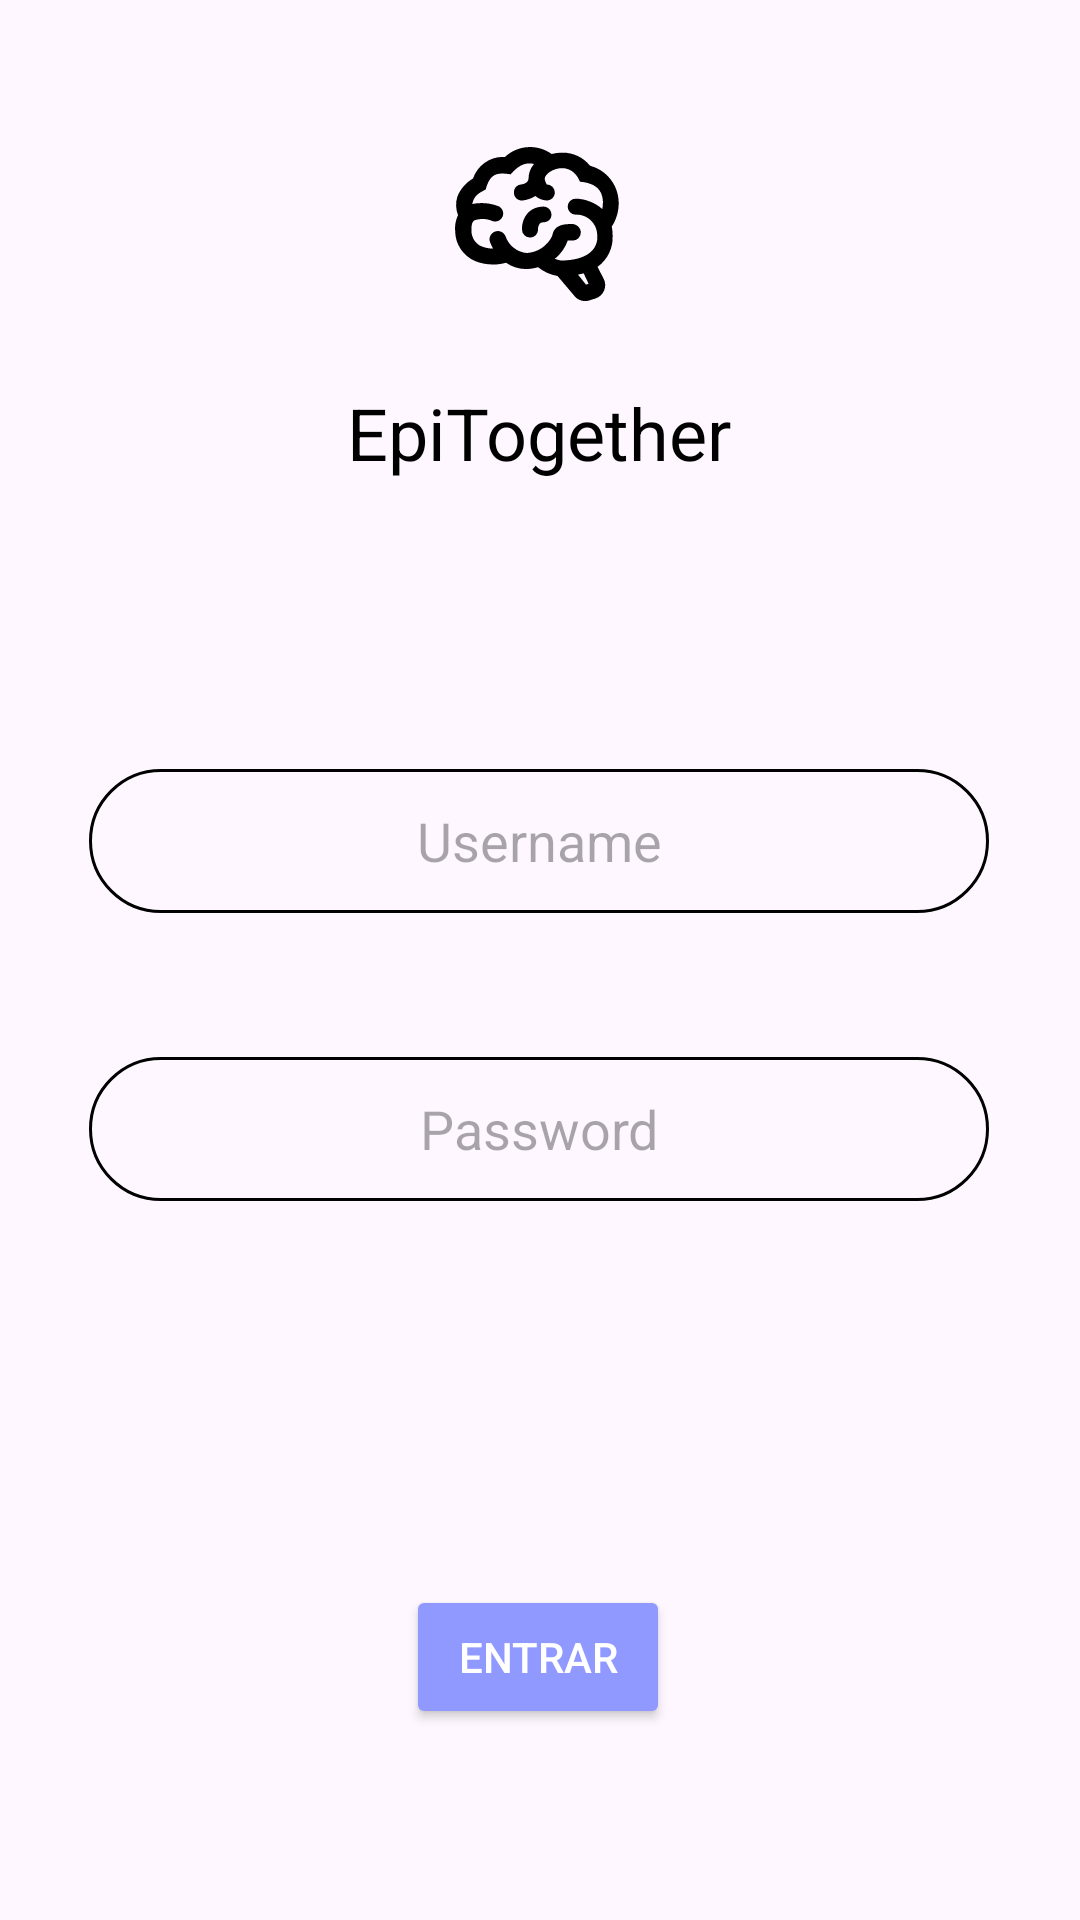

Icons on this 1080 × 1920 Android screen, each with its box as (x1, y1, x2, y2):
brain: (455, 147, 619, 301)
